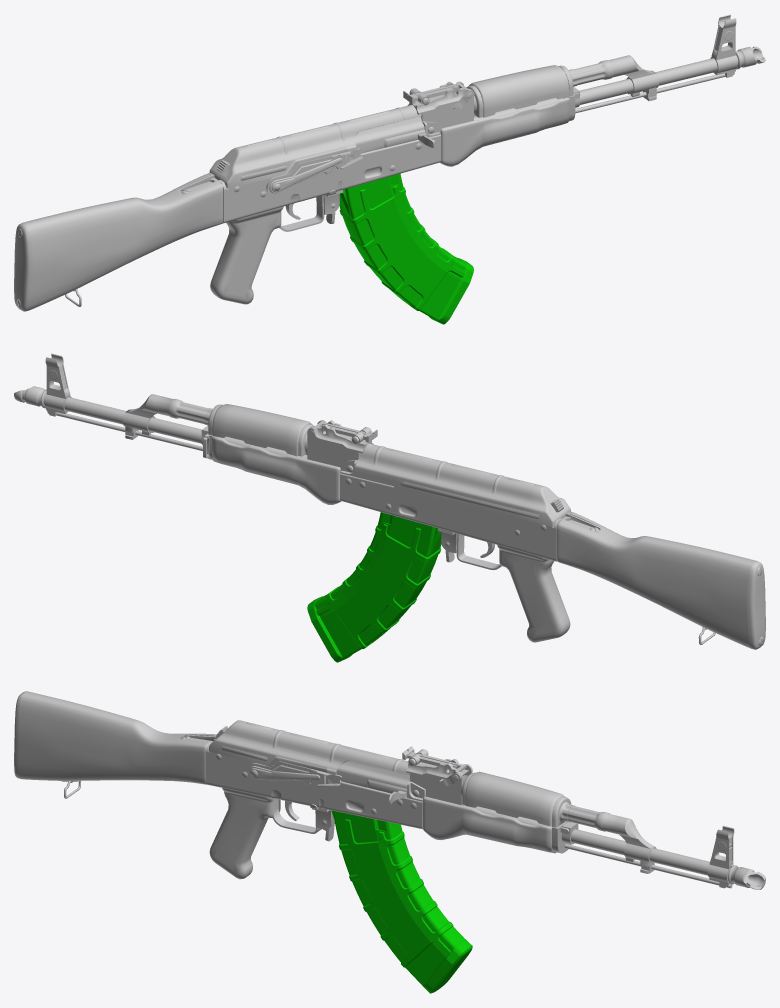
3 views of the same model, one above another, from view 1: azimuth 30°, elevation 25°; view 2: azimuth 150°, elevation 25°; view 3: azimuth 330°, elevation 25° (orthographic).
Parts seen in each view (by area): view 1: AKM_body; view 2: AKM_body; view 3: AKM_body.
Part boxes in pixels (x1=…): AKM_body: x1=14, y1=14, x2=765, y2=324; AKM_body: x1=14, y1=353, x2=765, y2=662; AKM_body: x1=14, y1=691, x2=765, y2=993.
Size of the model in its own units: 0.8953 by 0.2685 by 0.0682.
